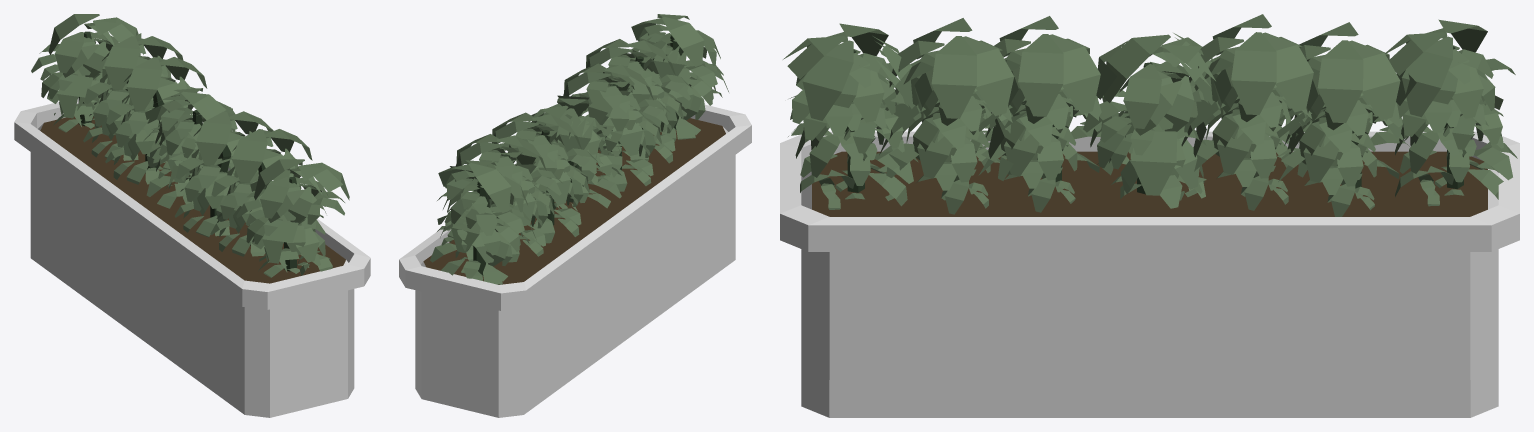
File: saksi_bitkili_100x30x30.glb
3 renders of one model, left to right at view 1: azimuth 30°, elevation 25°; view 2: azimuth 150°, elevation 25°; view 3: azimuth 270°, elevation 25°, orthographic. The views are drawn at different scales.
Visible parts, largest first — view 1: Planter_100x30x30_White, Plant_7_Leaves, Dirt, Plant_1_Leaves, Plant_3_Leaves, Plant_5_Leaves, Plant_6_Leaves, Plant_4_Leaves, Plant_2_Leaves; view 2: Planter_100x30x30_White, Plant_1_Leaves, Dirt, Plant_5_Leaves, Plant_3_Leaves, Plant_6_Leaves, Plant_7_Leaves, Plant_2_Leaves, Plant_4_Leaves; view 3: Planter_100x30x30_White, Dirt, Plant_6_Leaves, Plant_3_Leaves, Plant_1_Leaves, Plant_7_Leaves, Plant_4_Leaves, Plant_2_Leaves, Plant_5_Leaves.
Boxes of the visible parts, left/top/right/bottom form: Planter_100x30x30_White: left=14, top=98, right=370, bottom=417; Plant_7_Leaves: left=236, top=159, right=349, bottom=277; Dirt: left=40, top=116, right=345, bottom=283; Plant_1_Leaves: left=31, top=14, right=143, bottom=132; Plant_3_Leaves: left=105, top=57, right=207, bottom=189; Plant_5_Leaves: left=168, top=100, right=273, bottom=237; Plant_6_Leaves: left=210, top=129, right=312, bottom=256; Plant_4_Leaves: left=146, top=88, right=235, bottom=208; Plant_2_Leaves: left=77, top=33, right=183, bottom=160; Planter_100x30x30_White: left=399, top=104, right=751, bottom=417; Plant_1_Leaves: left=430, top=160, right=536, bottom=284; Dirt: left=423, top=118, right=725, bottom=284; Plant_5_Leaves: left=557, top=63, right=669, bottom=191; Plant_3_Leaves: left=492, top=112, right=598, bottom=243; Plant_6_Leaves: left=586, top=37, right=692, bottom=163; Plant_7_Leaves: left=631, top=14, right=728, bottom=142; Plant_2_Leaves: left=450, top=134, right=562, bottom=262; Plant_4_Leaves: left=528, top=98, right=621, bottom=208; Planter_100x30x30_White: left=780, top=131, right=1519, bottom=417; Dirt: left=812, top=151, right=1487, bottom=216; Plant_6_Leaves: left=873, top=18, right=1026, bottom=214; Plant_3_Leaves: left=1173, top=14, right=1325, bottom=210; Plant_1_Leaves: left=1385, top=19, right=1517, bottom=206; Plant_7_Leaves: left=783, top=23, right=918, bottom=209; Plant_4_Leaves: left=1083, top=34, right=1215, bottom=208; Plant_2_Leaves: left=1276, top=22, right=1416, bottom=216; Plant_5_Leaves: left=977, top=16, right=1128, bottom=212.
Size of the model in its own units: 0.3 by 0.5264 by 1.
